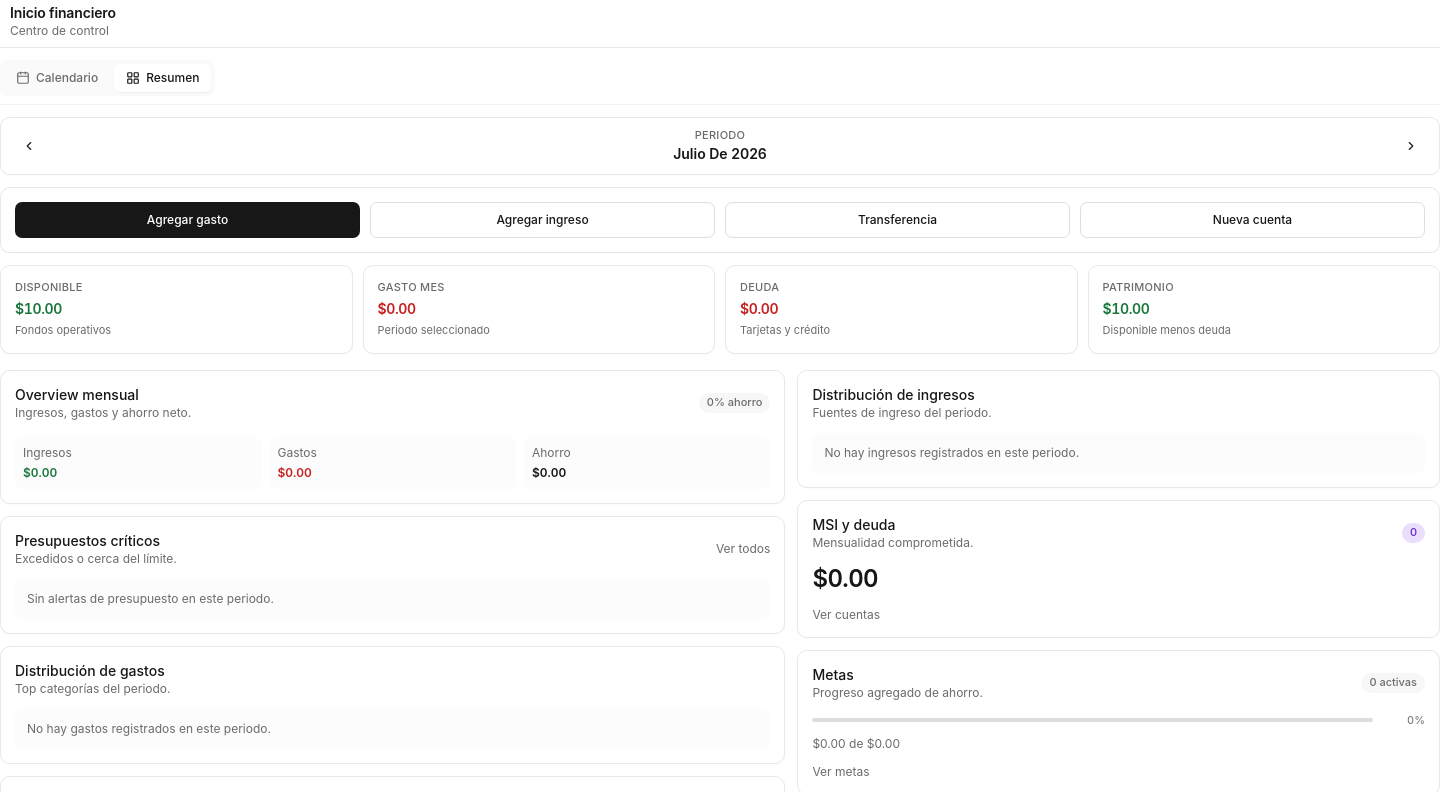
Test: DashboardPage › submits quick expense form with normalized transaction payload
This screenshot has width=1440, height=792.
Click the button "Agregar gasto" at [188, 220], box top-left (15, 202), bottom-right (360, 238)
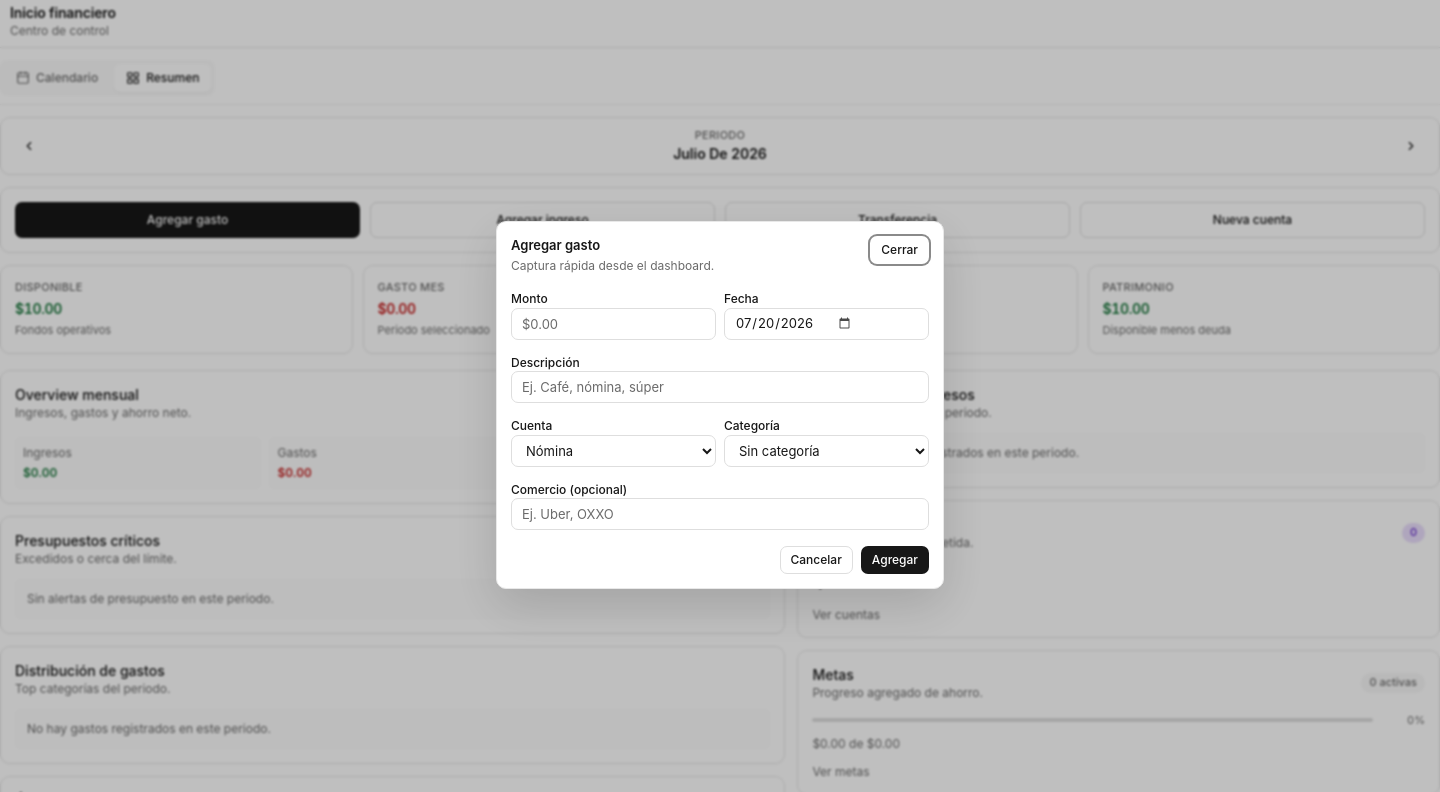
Type "19.99" into the field with placeholder "$0.00" at [614, 324], box top-left (511, 308), bottom-right (716, 340)
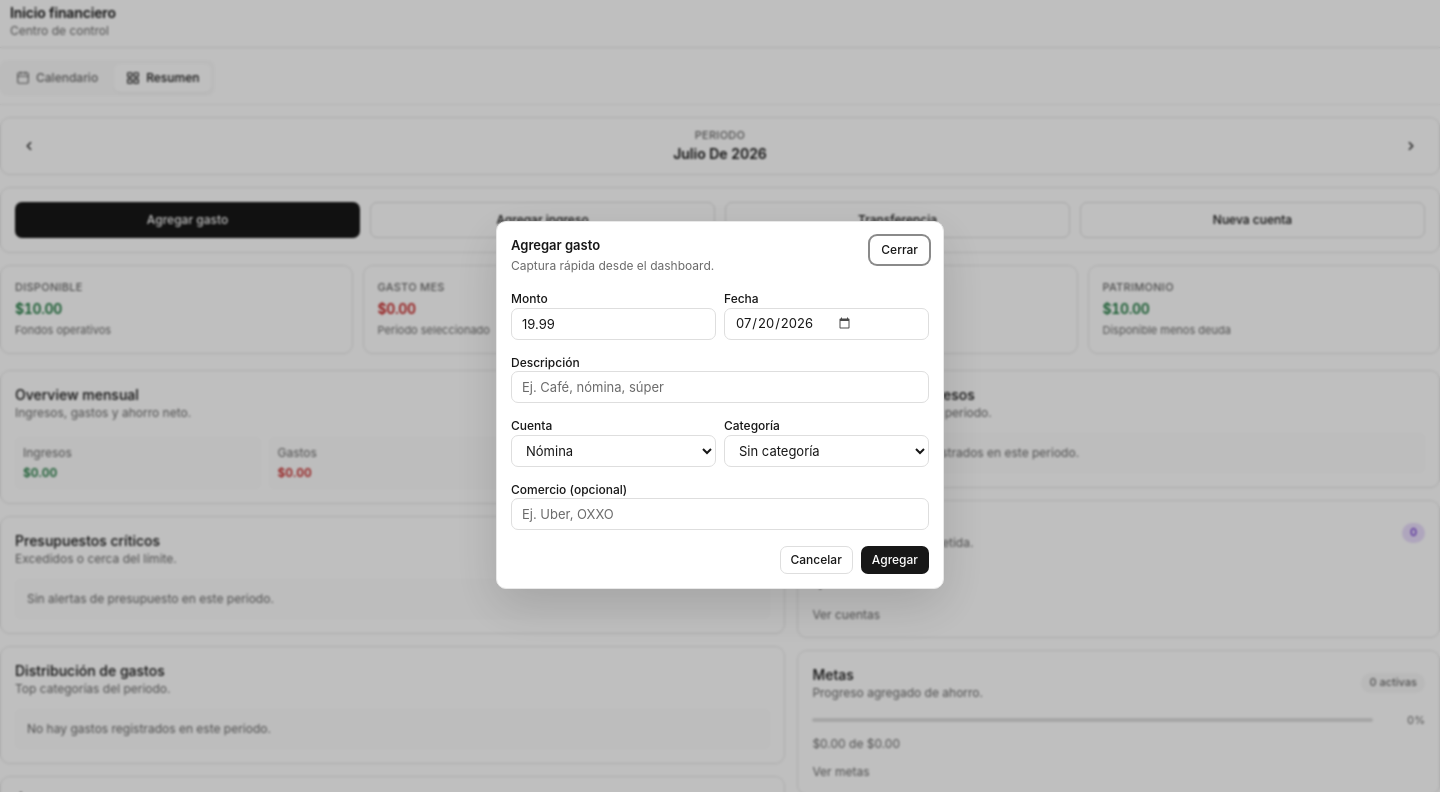
Type "  Cena  " into the field with placeholder "Ej. Café, nómina, súper" at [720, 387], box top-left (511, 371), bottom-right (929, 403)
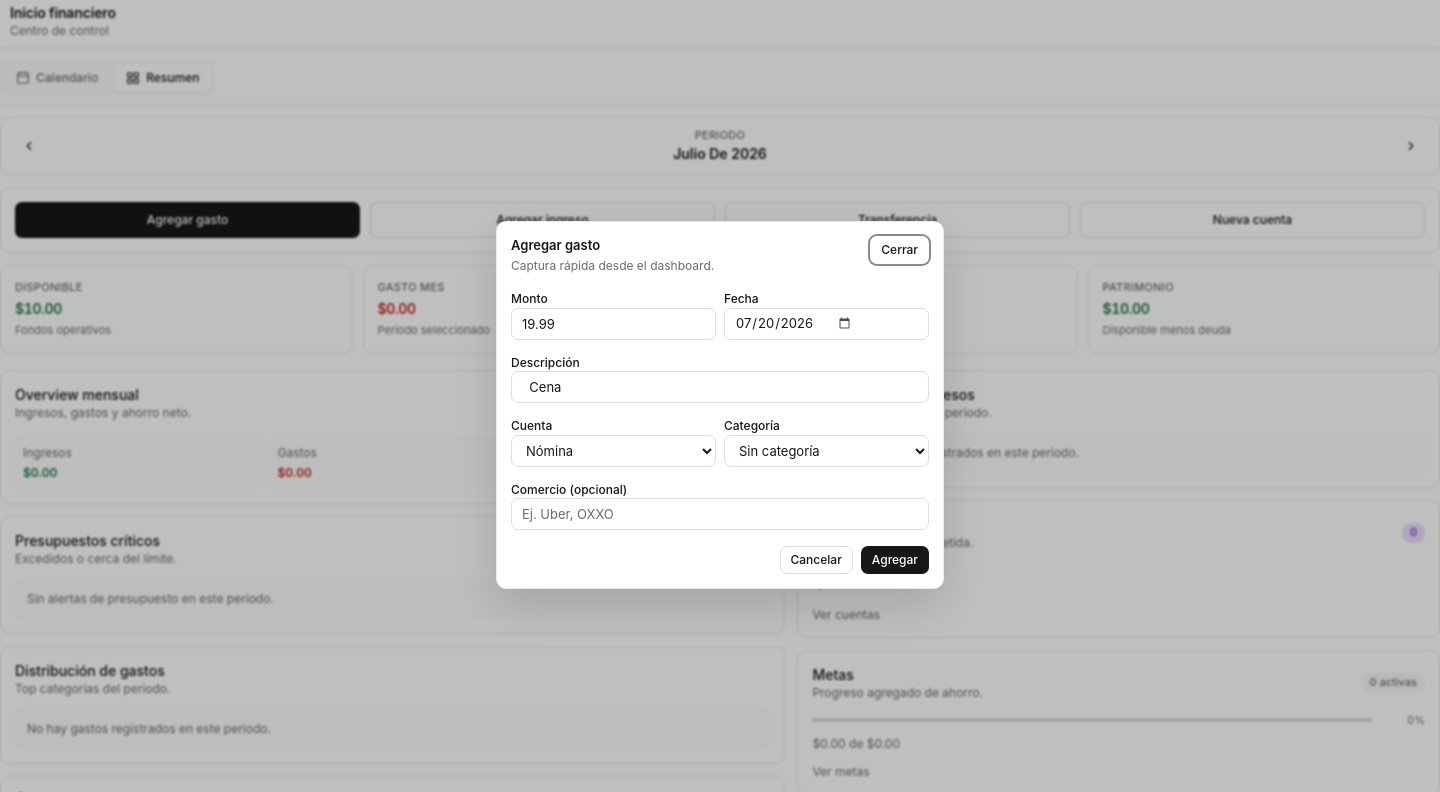
Select "Comida" in the dropdown labelled "Categoría" at [826, 451], box top-left (724, 435), bottom-right (929, 467)
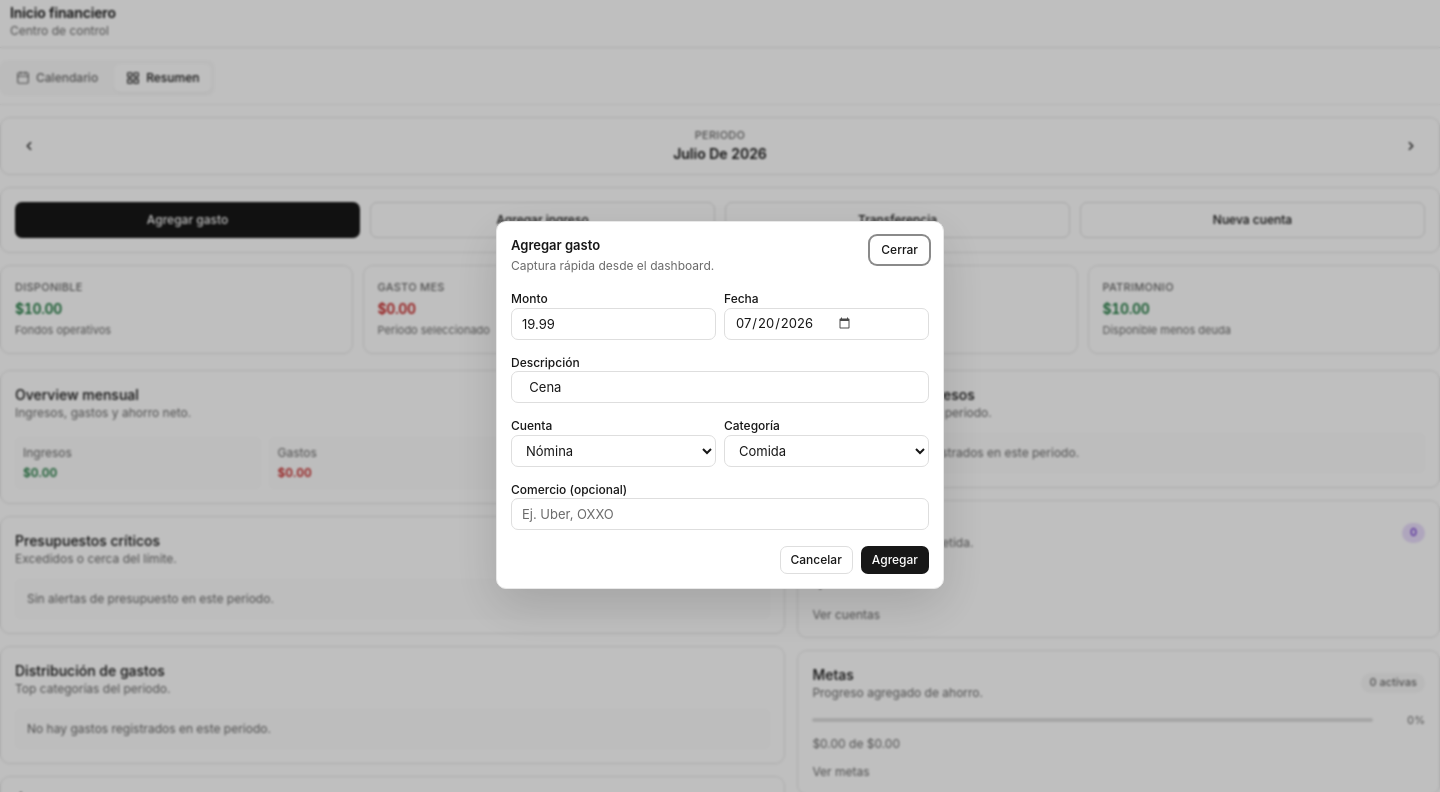
Type "Restaurante" into the field with placeholder "Ej. Uber, OXXO" at [720, 514], box top-left (511, 498), bottom-right (929, 530)
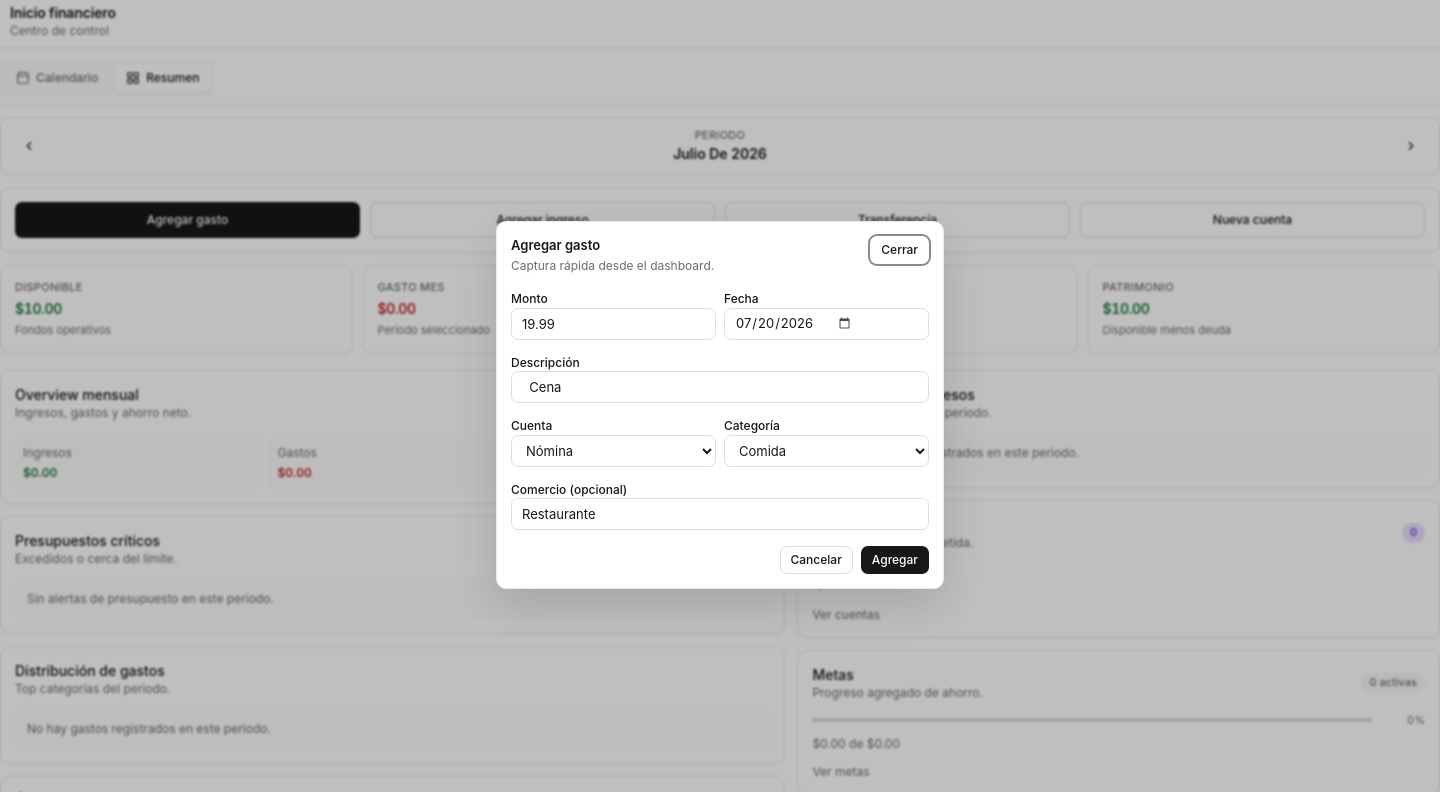
Click the button "Agregar" at [895, 560], box top-left (861, 546), bottom-right (929, 574)
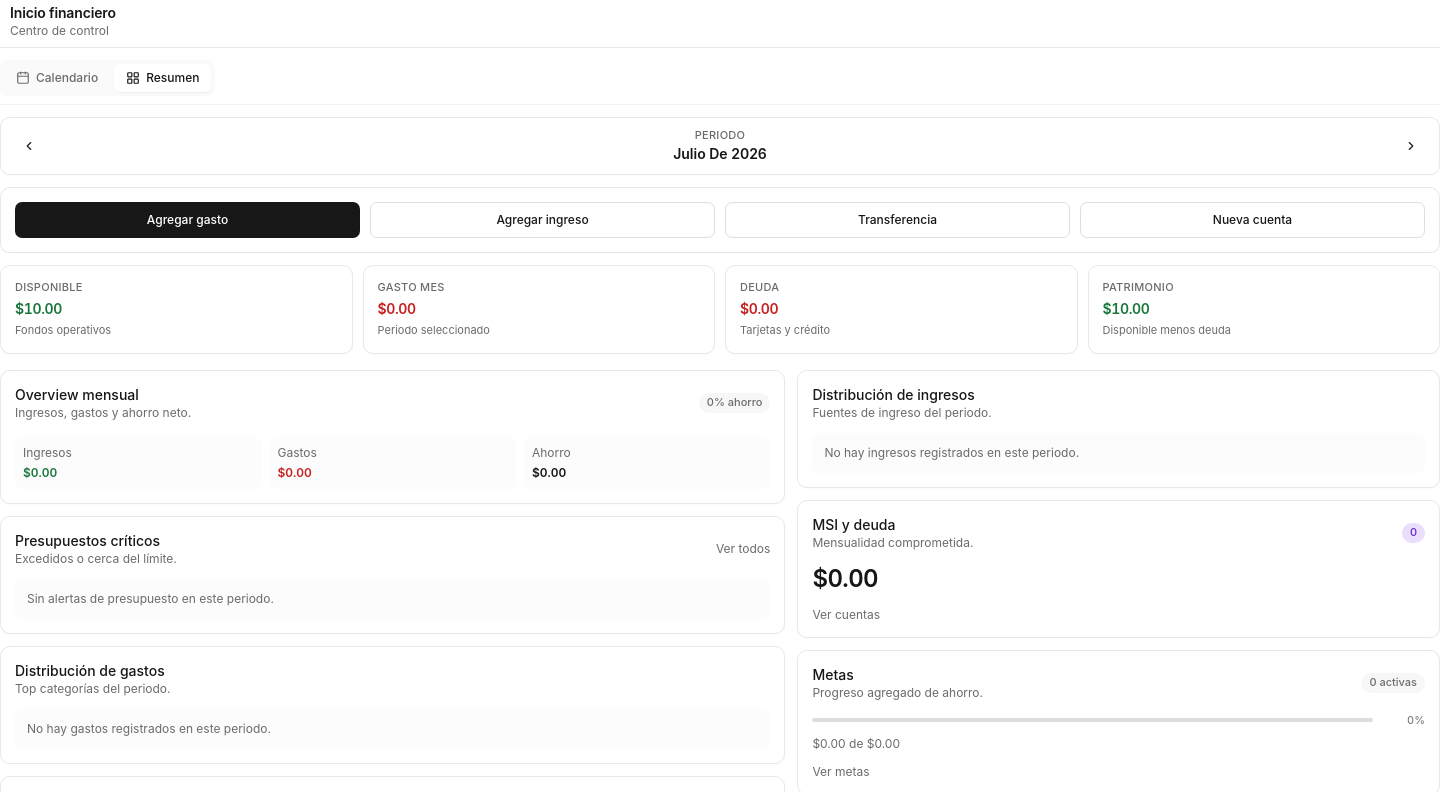
Now the text "Captura rápida desde el dashboard." is gone
